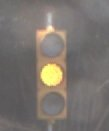Yellow: (22, 21, 78, 123)
